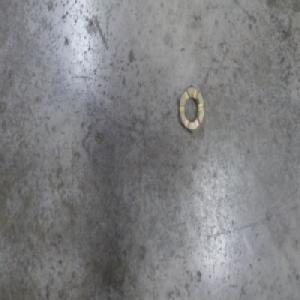Nut: (178, 83, 204, 135)
